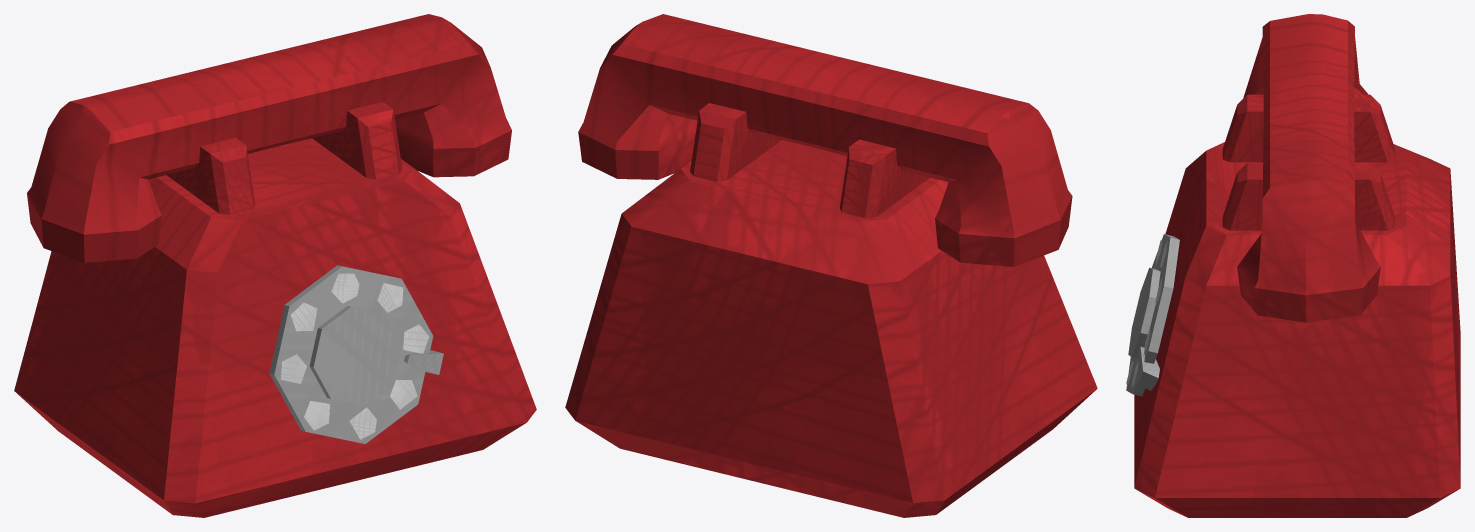
The model's file is Low_Poly_Red_Rotary_Phone.glb.
3 views of the same model, side by side, from view 1: azimuth 30°, elevation 25°; view 2: azimuth 150°, elevation 25°; view 3: azimuth 270°, elevation 25° (orthographic). The views are drawn at different scales.
Parts seen in each view (by area): view 1: unnamed (×6); view 2: unnamed (×3); view 3: unnamed (×6).
Boxes of the visible parts, x1,y1,x2,y2 form: unnamed (×6): (14, 14, 536, 517); unnamed (×3): (565, 14, 1097, 517); unnamed (×6): (1126, 14, 1460, 517).
Size of the model in its own units: 3.28 by 2.48 by 2.17.
Materials: 1 (1 with a texture image).
